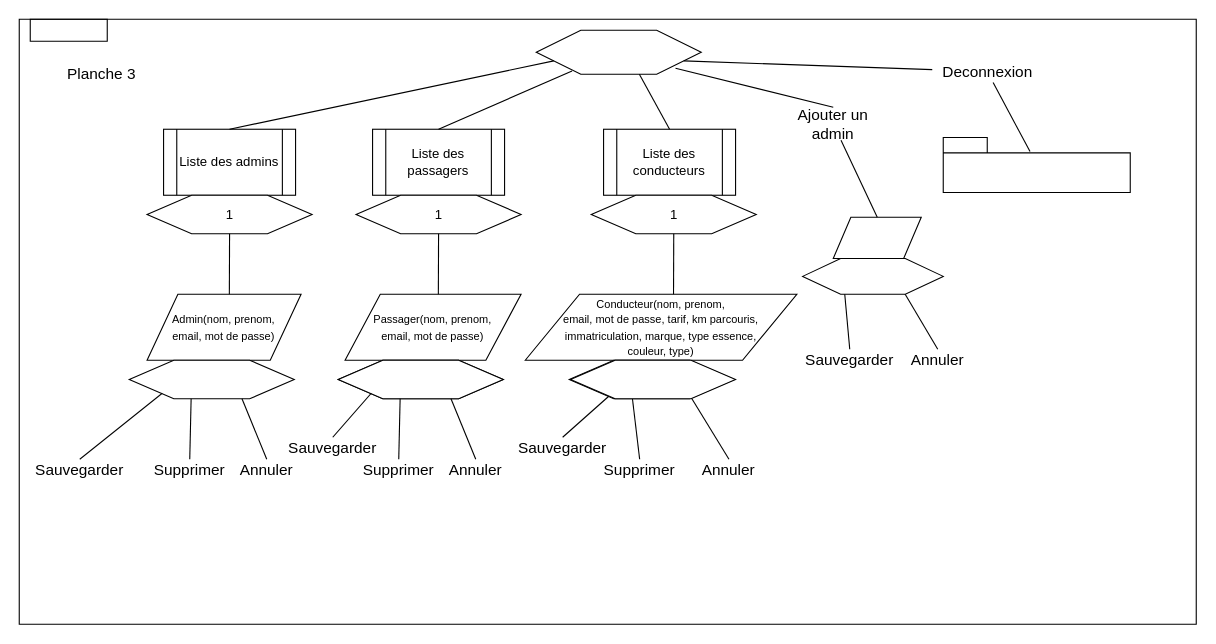
This 1216x644 diagram has some shape labels left out. Here are the shapes that lost their labels. From the top down, the box of each, then its label:
(535, 29, 701, 74): Gérer les utilisateurs
(942, 136, 1130, 193): connexion
(832, 216, 921, 258): Admin
